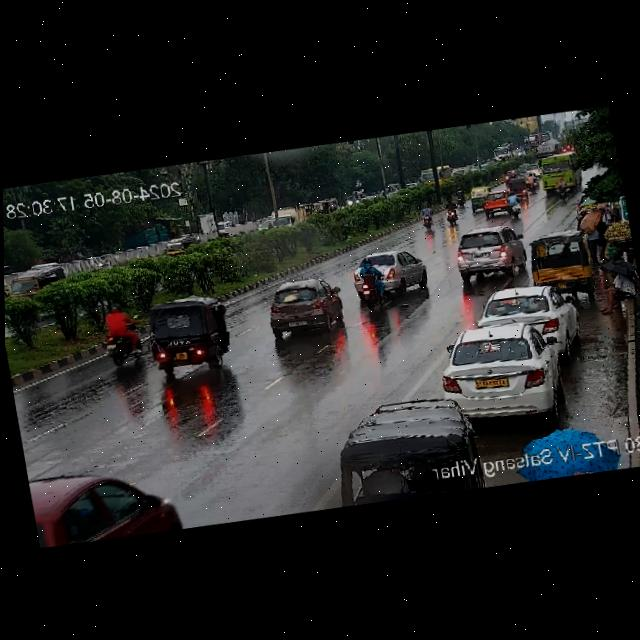bus: (530, 144, 585, 199), (419, 161, 452, 187), (491, 138, 513, 161)
car: (22, 402, 193, 551), (446, 326, 569, 425), (339, 389, 471, 474), (478, 281, 580, 365), (143, 294, 225, 376), (262, 270, 345, 345), (353, 236, 428, 313), (448, 219, 522, 286), (526, 226, 591, 290), (11, 261, 67, 308), (466, 184, 494, 213), (304, 196, 330, 219), (4, 249, 15, 303), (520, 159, 543, 180), (163, 237, 188, 255), (502, 166, 523, 186), (323, 192, 338, 212)
motorcycle: (83, 296, 143, 374), (345, 257, 386, 311), (75, 248, 117, 277), (410, 200, 435, 235), (436, 199, 466, 226), (544, 177, 572, 203), (521, 171, 538, 194), (452, 182, 467, 208)
person: (594, 254, 640, 324), (577, 221, 602, 264), (592, 214, 614, 259), (596, 203, 616, 229)
truck: (257, 200, 306, 232), (517, 127, 548, 154), (536, 138, 558, 159)
